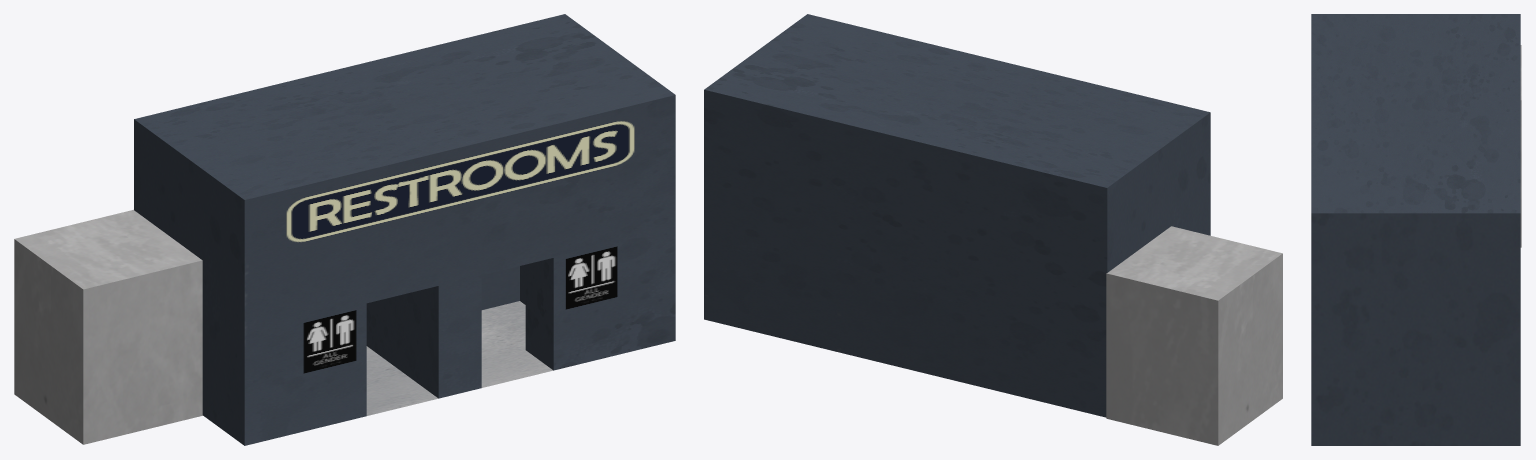
File: Restroom_JanitorCloset (2).fbx
The picture shows the model from 3 angles, left to right: view 1: azimuth 30°, elevation 25°; view 2: azimuth 150°, elevation 25°; view 3: azimuth 270°, elevation 25°; orthographic projection. The views are drawn at different scales.
Parts seen in each view (by area): view 1: Cube, Cube.001; view 2: Cube, Cube.001; view 3: Cube, Cube.001.
Part boxes in pixels (x1=…): Cube: x1=134, y1=14, x2=675, y2=445; Cube.001: x1=14, y1=209, x2=202, y2=444; Cube: x1=704, y1=14, x2=1210, y2=417; Cube.001: x1=1106, y1=226, x2=1282, y2=445; Cube: x1=1311, y1=14, x2=1520, y2=445; Cube.001: x1=1520, y1=45, x2=1521, y2=247.
Bounding box in the file's own units: 1195 × 511 × 418.
